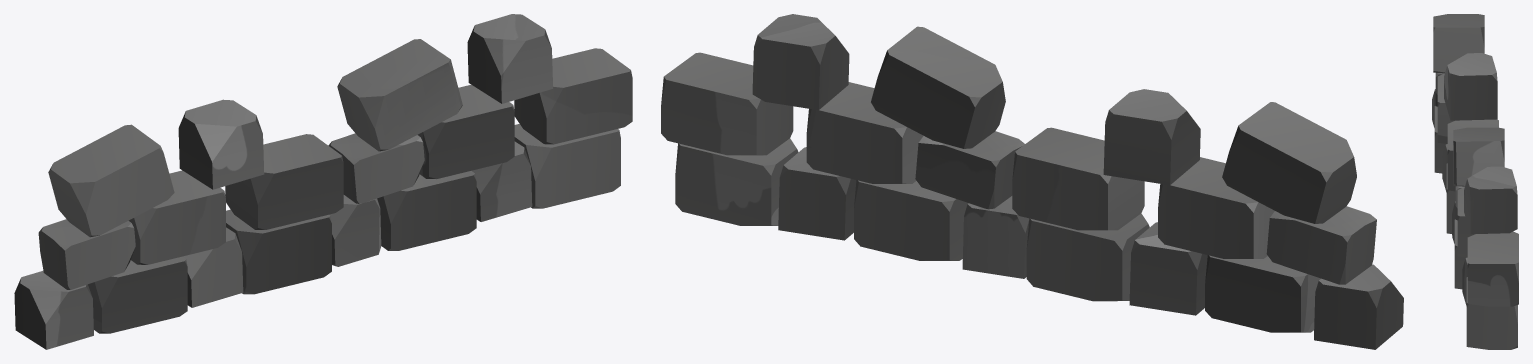
File: Block.fbx
3 views of the same model, side by side, from view 1: azimuth 30°, elevation 25°; view 2: azimuth 150°, elevation 25°; view 3: azimuth 270°, elevation 25° (orthographic). The views are drawn at different scales.
Parts seen in each view (by area): view 1: Object006; view 2: Object006; view 3: Object006.
Part boxes in pixels (x1=…): Object006: x1=14, y1=14, x2=632, y2=349; Object006: x1=661, y1=14, x2=1403, y2=349; Object006: x1=1432, y1=14, x2=1518, y2=349.
Bounding box in the file's own units: 86.84 × 24.55 × 13.57.
